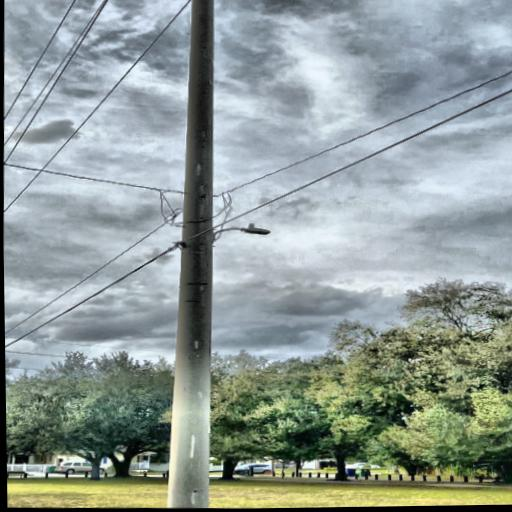pole: (148, 0, 229, 509)
street light: (210, 220, 274, 243)
